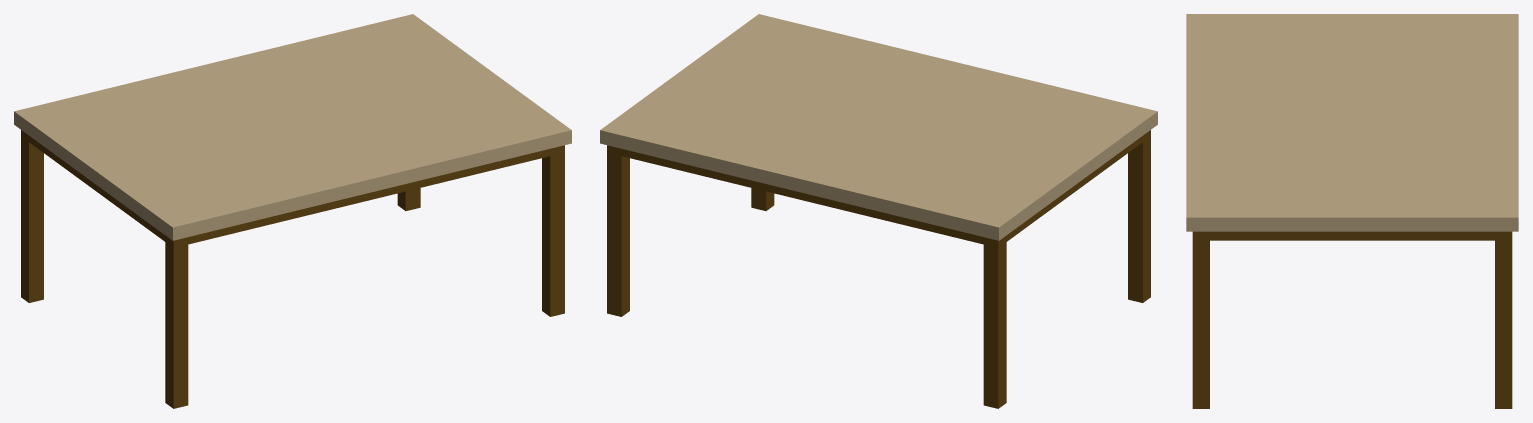
Rendered from CoffeeTable_4.fbx.
3 views of the same model, side by side, from view 1: azimuth 30°, elevation 25°; view 2: azimuth 150°, elevation 25°; view 3: azimuth 270°, elevation 25° (orthographic). The views are drawn at different scales.
Visible parts, largest first — view 1: CoffeeTable4; view 2: CoffeeTable4; view 3: CoffeeTable4.
Part boxes in pixels (x1,y1,x2,y2): CoffeeTable4: (14,14,571,408); CoffeeTable4: (600,14,1157,408); CoffeeTable4: (1186,14,1518,408).
Size of the model in its own units: 399 by 176 by 275.
